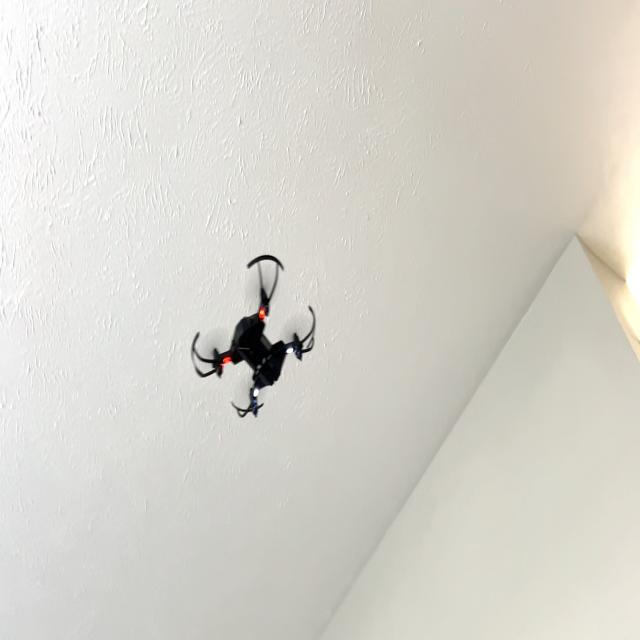drone: (184, 239, 320, 428)
